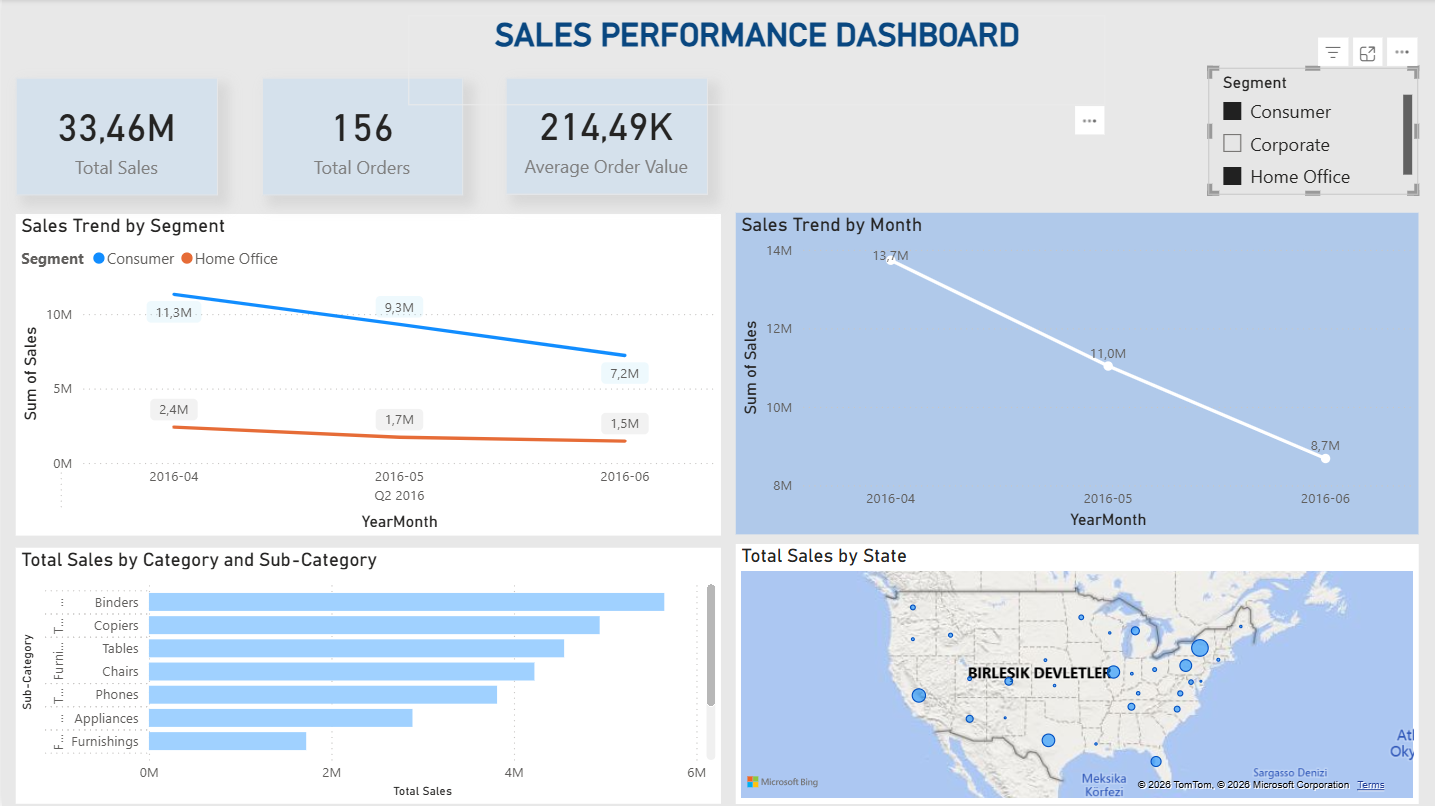

What the dashboard file says about the page in this screenshot:
{"tool":"powerbi","page":{"name":"Page 1","canvas":[1280,720],"ordinal":0},"visuals":[{"type":"lineChart","title":"Sales Trend by Segment","fields":{"Y":["Sum(train.Sales)"],"Category":["train.YearQuarter Hierarchy.YearQuarter","train.YearQuarter Hierarchy.YearMonth"],"Series":["train.Segment"]},"box":[12.1,191,628,286.4],"z":0},{"type":"lineChart","title":"Sales Trend by Month","fields":{"Category":["train.YearMonth"],"Y":["Sum(train.Sales)"]},"box":[653.2,190.7,607.9,286.8],"z":1000},{"type":"card","fields":{"Values":["train.Total Sales"]},"box":[12.1,69.9,180.2,104.9],"z":2000},{"type":"card","fields":{"Values":["train.Total Orders"]},"box":[231.1,69.9,178.9,104.9],"z":3000},{"type":"card","fields":{"Values":["train.Avarage Order Value"]},"box":[448.7,70,179.8,104.3],"z":4000},{"type":"clusteredBarChart","fields":{"Category":["train.Category","train.Sub-Category"],"Y":["train.Total Sales"]},"box":[12.5,488.8,628.4,228],"z":5000},{"type":"slicer","fields":{"Values":["train.Segment"]},"box":[1074.4,61.7,186.6,112.5],"z":6000},{"type":"map","fields":{"Category":["train.State"],"Size":["train.Total Sales"]},"box":[653.3,485.4,607.9,231.4],"z":7000},{"type":"textbox","title":"SALES PERFORMANCE DASHBOARD","box":[362.3,15.1,532.4,79.6],"z":8000}]}

Visuals, with their boxes in screenshot pixels (x1, y1, x2, y2), scaled from the page's 1280x720 canvas onto the 1435x806 screenshot:
"Sales Trend by Segment" lineChart: {"left": 14, "top": 214, "right": 718, "bottom": 534}
"Sales Trend by Month" lineChart: {"left": 732, "top": 213, "right": 1414, "bottom": 535}
card - train.Total Sales: {"left": 14, "top": 78, "right": 216, "bottom": 196}
card - train.Total Orders: {"left": 259, "top": 78, "right": 460, "bottom": 196}
card - train.Avarage Order Value: {"left": 503, "top": 78, "right": 705, "bottom": 195}
clusteredBarChart - train.Category x train.Sub-Category: {"left": 14, "top": 547, "right": 719, "bottom": 802}
slicer - train.Segment: {"left": 1205, "top": 69, "right": 1414, "bottom": 195}
map - train.State x train.Total Sales: {"left": 732, "top": 543, "right": 1414, "bottom": 802}
"SALES PERFORMANCE DASHBOARD" textbox: {"left": 406, "top": 17, "right": 1003, "bottom": 106}
